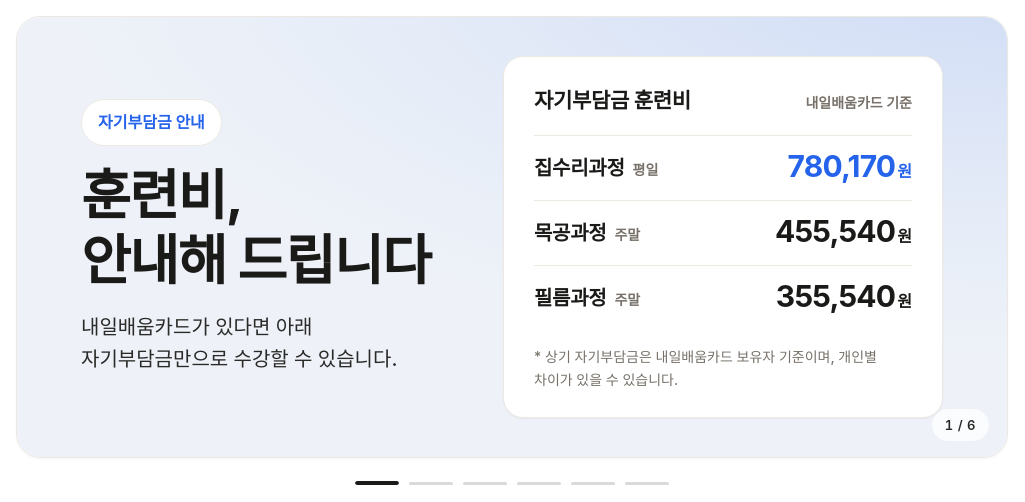
Test case: Banner › 왼쪽으로 스와이프하면 다음 슬라이드로 넘어간다 (1 → 2 / 6)
This screenshot has width=1025, height=502.
Press the mouse on the element with test id "banner-track" at (512, 237), box x1=16 y1=16 x2=1008 y2=458
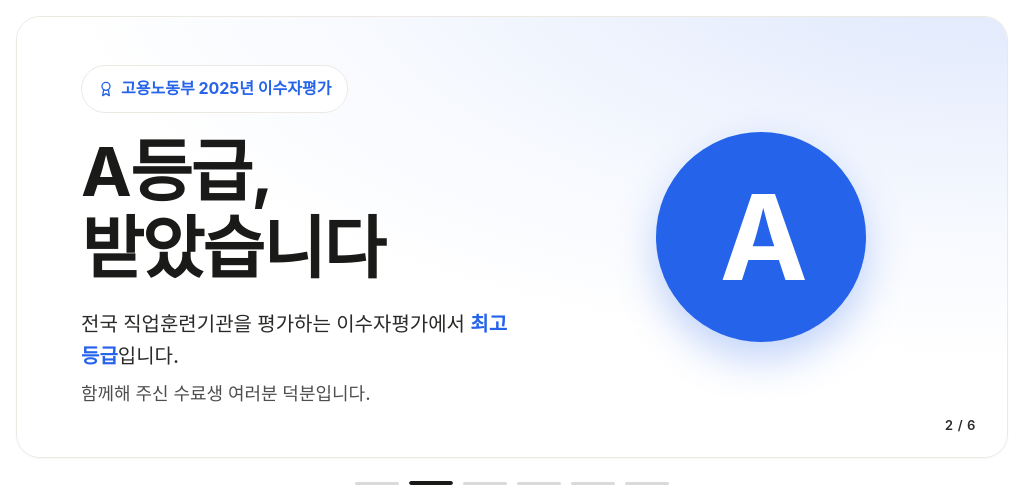
Check: the text "2 / 6" is shown, box x1=932 y1=409 x2=989 y2=441
